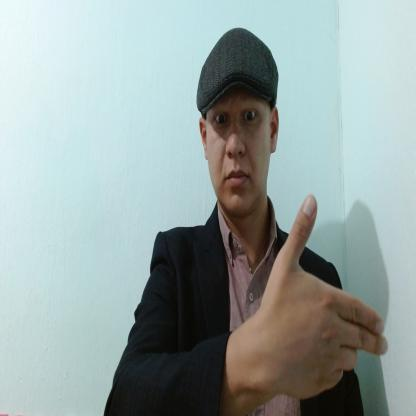H: (262, 196, 388, 398)
